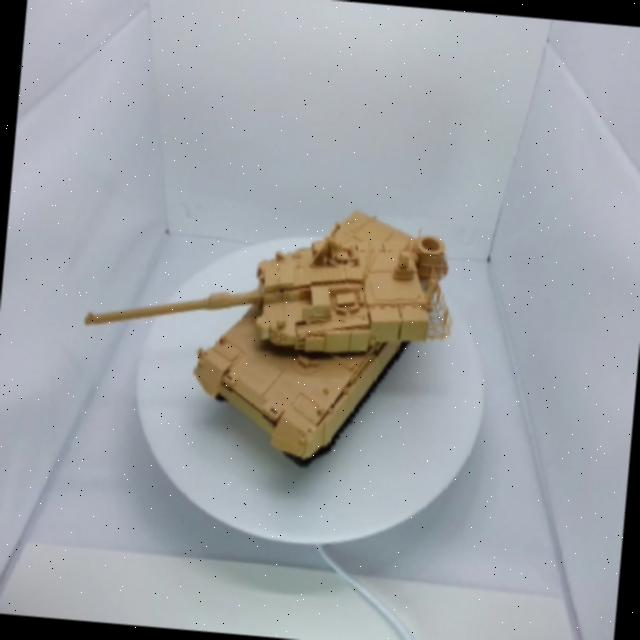korea tank: (60, 158, 478, 502)
